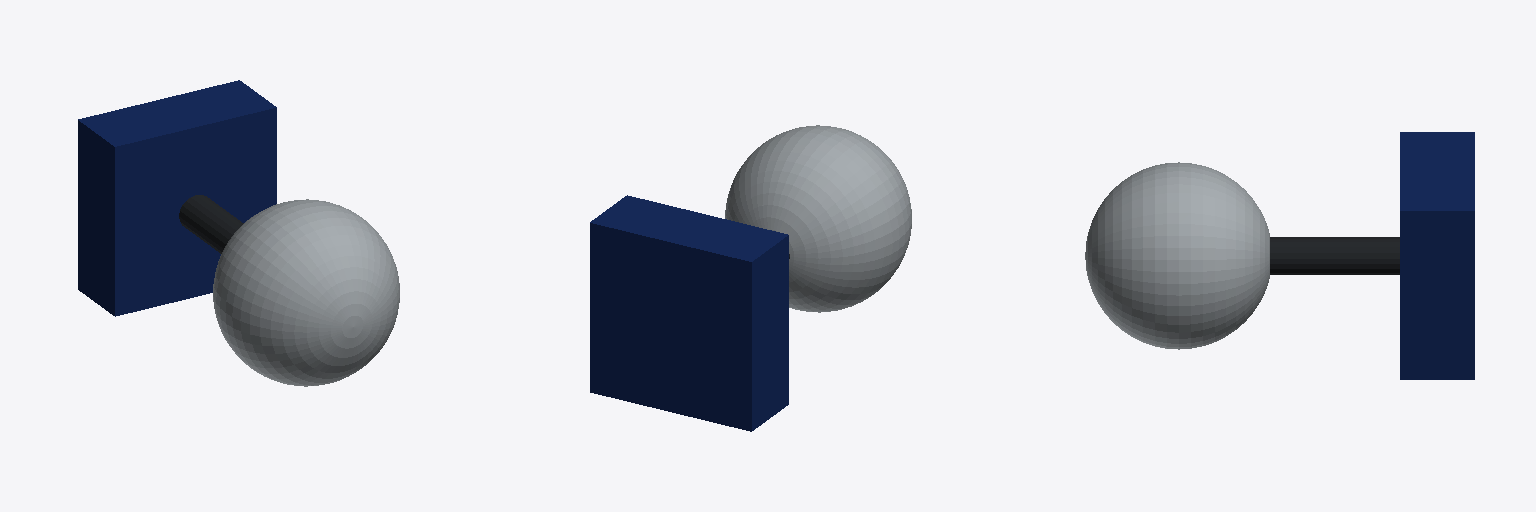
File: tinker.obj
3 renders of one model, left to right at view 1: azimuth 30°, elevation 25°; view 2: azimuth 150°, elevation 25°; view 3: azimuth 270°, elevation 25°, orthographic.
Parts seen in each view (by area): view 1: obj_0; view 2: obj_0; view 3: obj_0.
Part boxes in pixels (x1,y1,x2,y2): obj_0: (78,80,399,386); obj_0: (590,125,911,431); obj_0: (1085,132,1474,379).
Bounding box in the file's own units: 50 × 50 × 104.